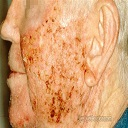Actinic: (23, 24, 78, 118)
